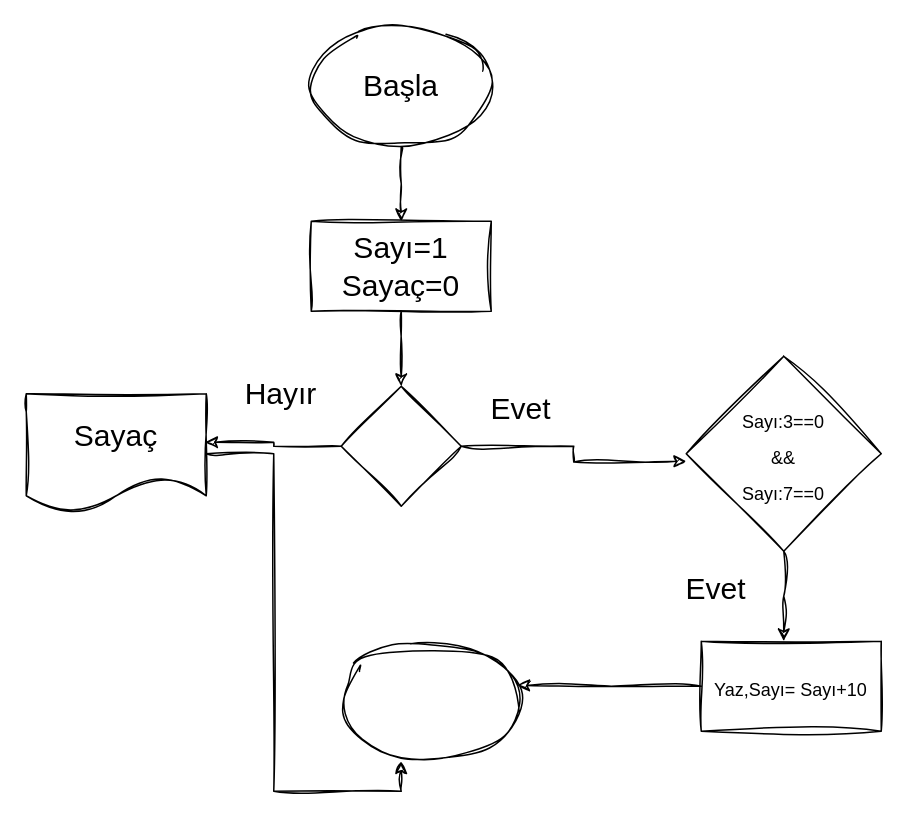
The diagram is 908 pixels wide and 830 high, and some of its shapes have lost their labels. The centre of each missing label's shape, as x and y in pixels:
"Bitir" goes at [430,700].
"Sayı<1000" goes at [400,445].
